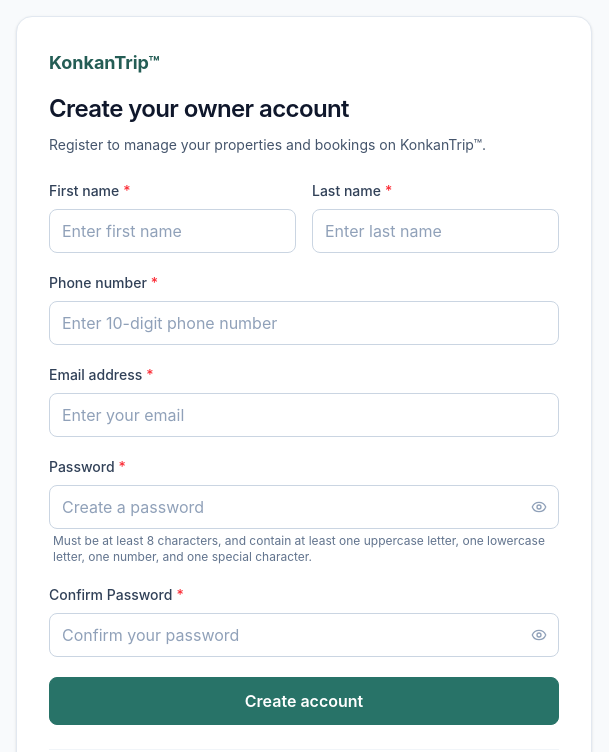
Test: RegisterPage › validates required fields on empty submit
Click the button "Create account": click(304, 701) 49,677 -> 559,725
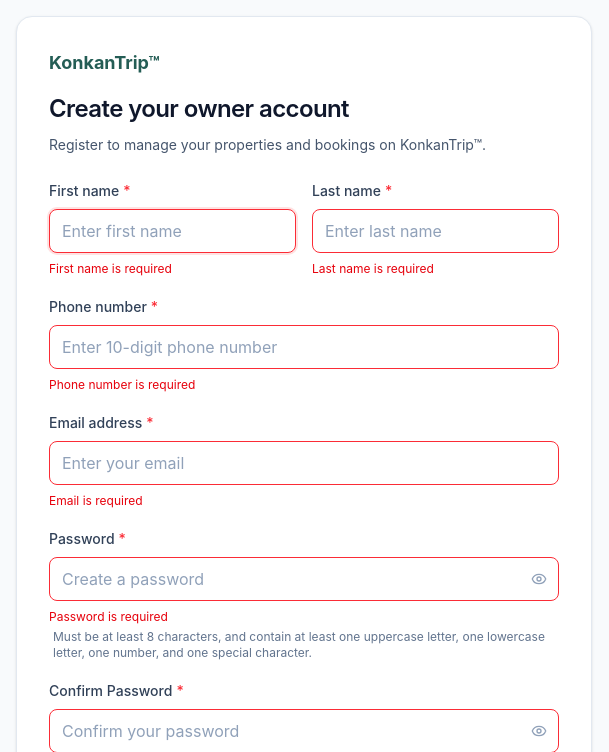
Result: the text "First name is required" is shown at 49,261 -> 172,276
Result: the text "Last name is required" is shown at 312,261 -> 434,276
Result: the text "Phone number is required" is shown at 49,377 -> 195,392
